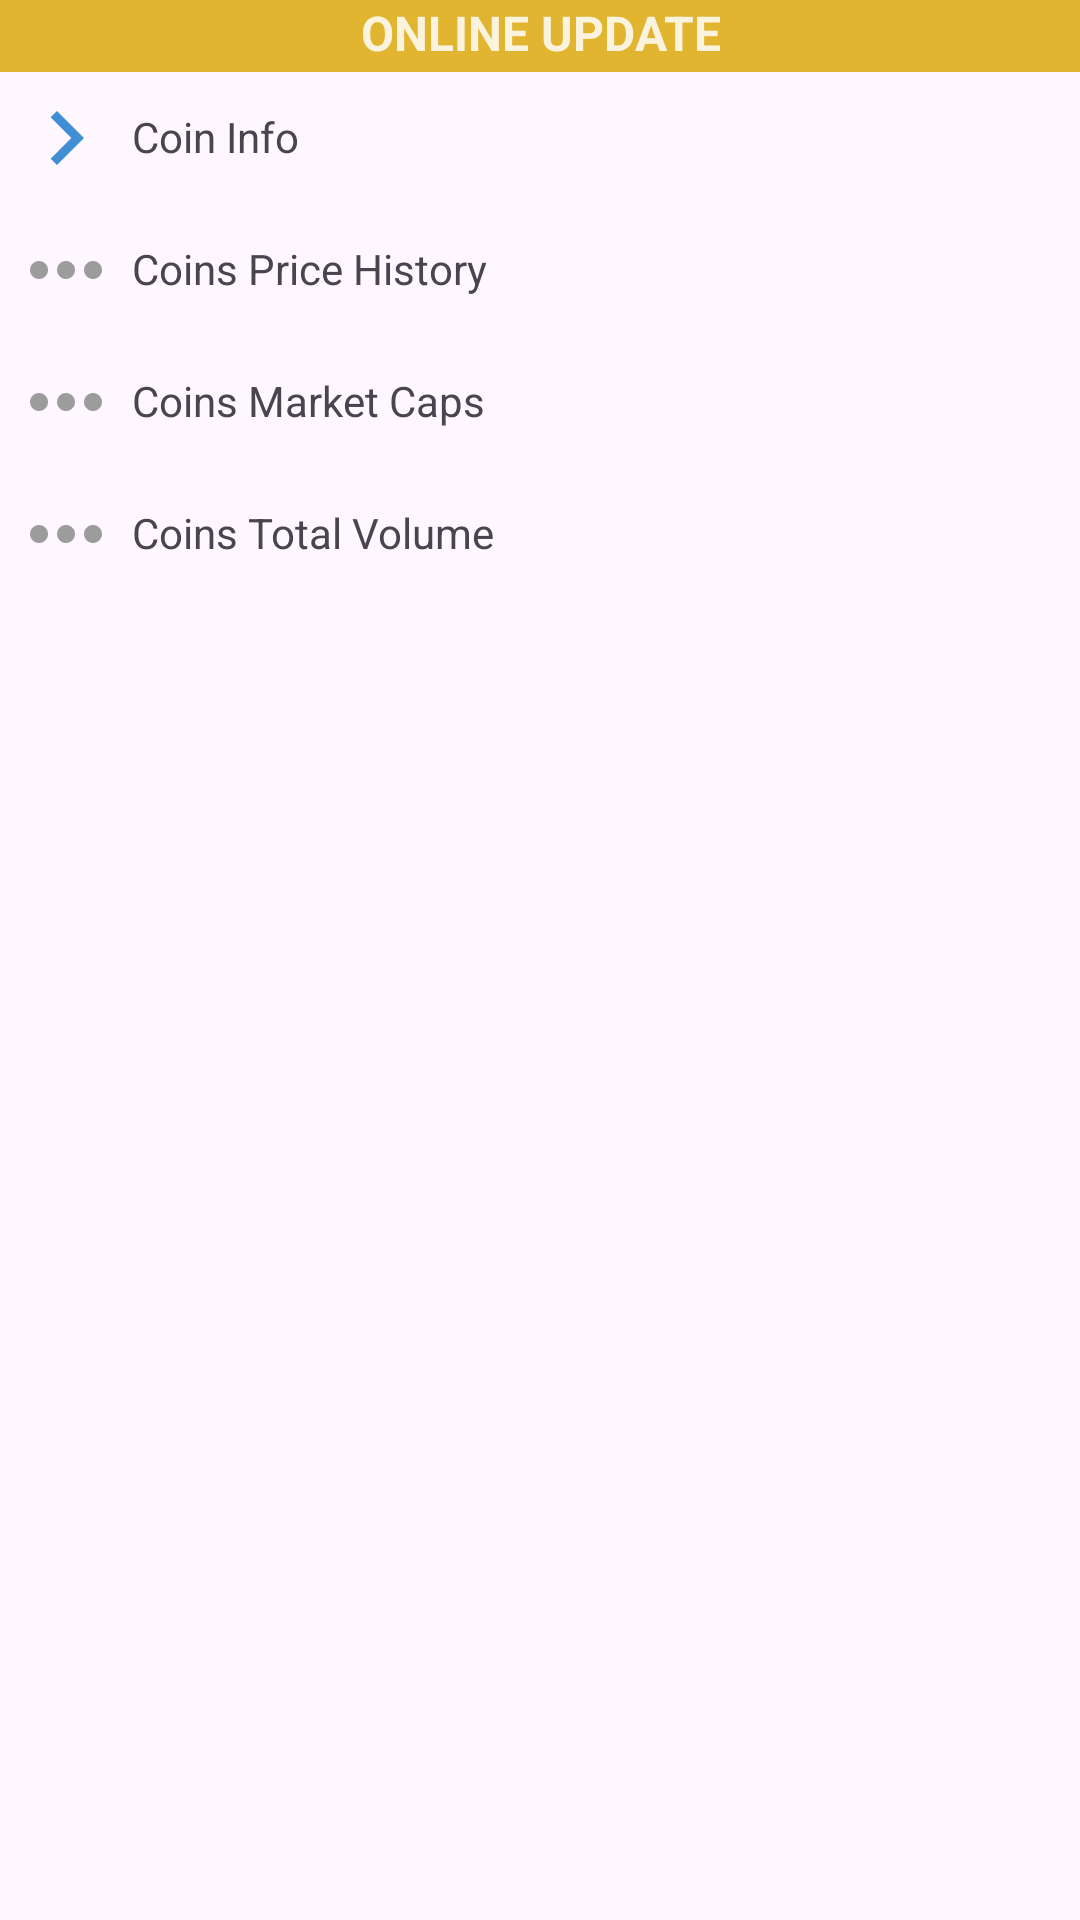

Locate icon controls on the screen. Image size 1080 × 1920, boxes as (x1, y1, x2, y2).
keyboard arrow right: (51, 111, 84, 165)
more horiz: (30, 261, 102, 279), (30, 393, 102, 411), (30, 525, 102, 543)
